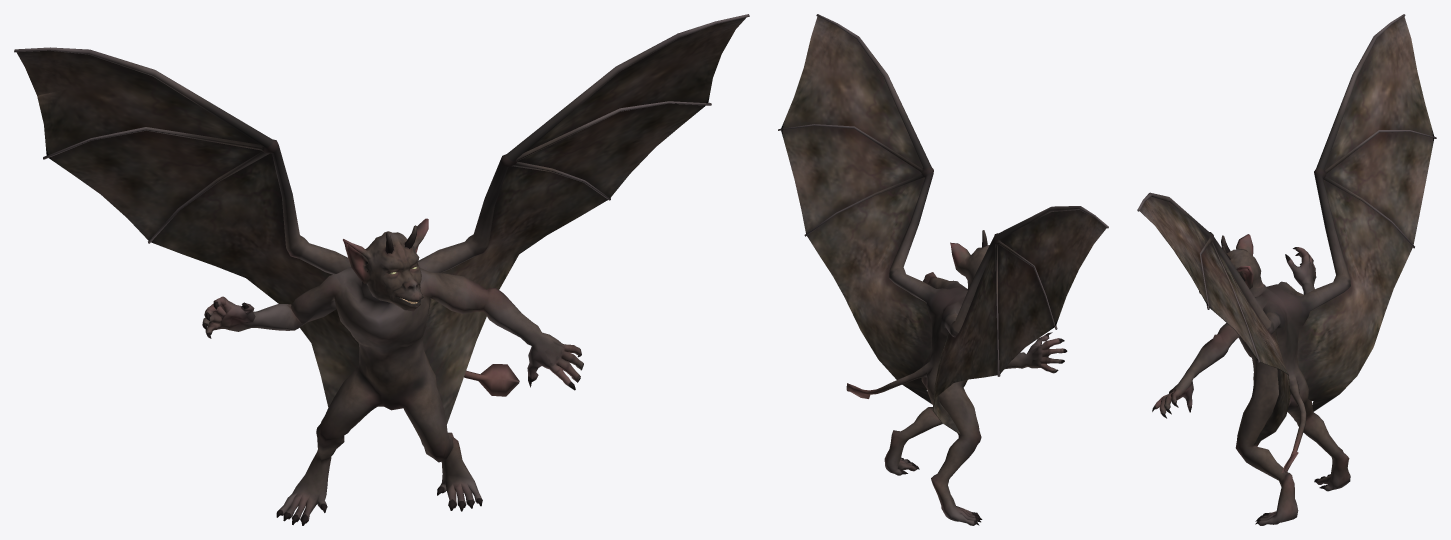
The model's file is Gargoyle_Test.FBX.
The picture shows the model from 3 angles, left to right: view 1: azimuth 30°, elevation 25°; view 2: azimuth 150°, elevation 25°; view 3: azimuth 270°, elevation 25°; orthographic projection. The views are drawn at different scales.
Visible parts, largest first — view 1: Sphere001; view 2: Sphere001; view 3: Sphere001.
Boxes of the visible parts, <box> form: Sphere001: <box>14,14,749,525</box>; Sphere001: <box>778,14,1108,525</box>; Sphere001: <box>1137,14,1436,525</box>.
Size of the model in its own units: 210 by 181 by 123.
